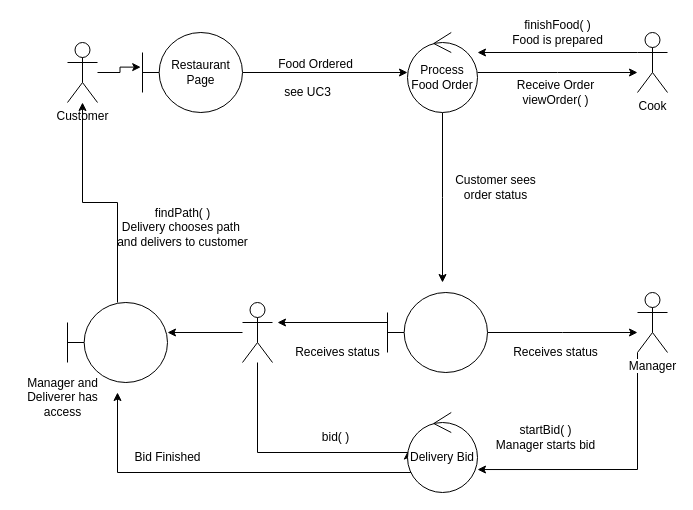
The diagram is 693 pixels wide and 510 high, and some of its shapes have lost their labels. The shapes that lost their labels are listed below. From the top down, each one's centre as x and y in pixels, then its label:
At (117,342): "Order Details".
At (257,332): "Deliverer".
At (437,332): "Order Status".
